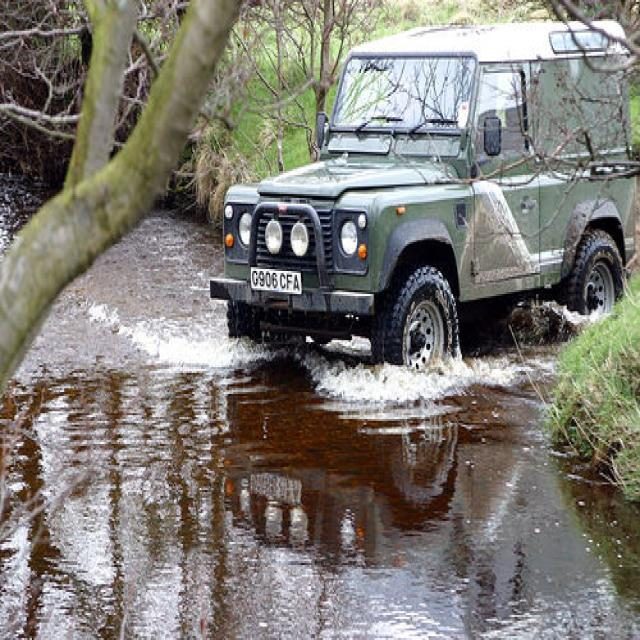car: (210, 18, 635, 366)
